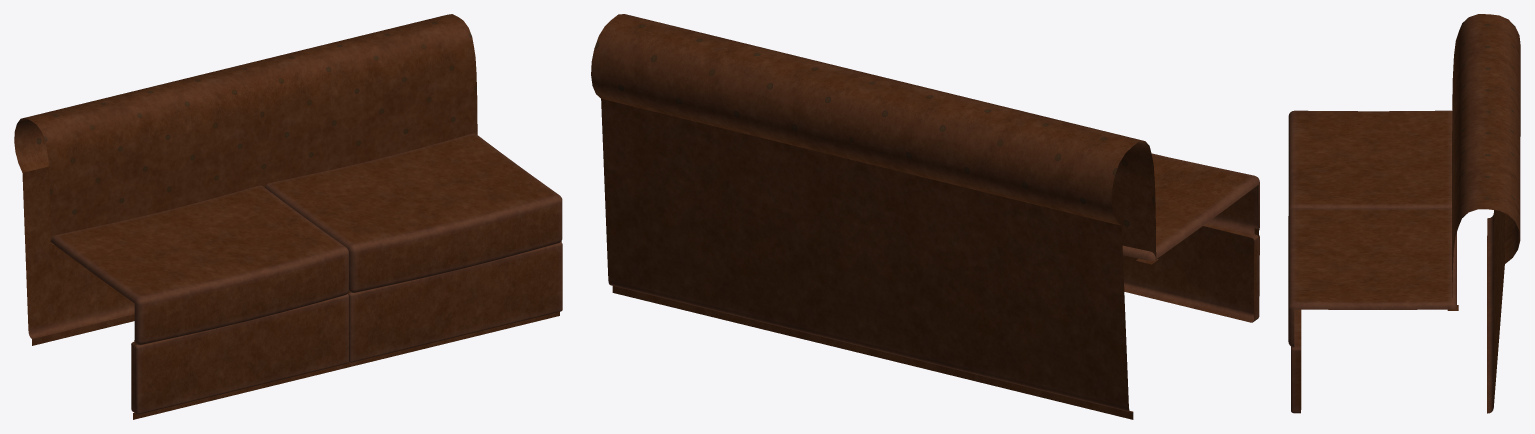
The model's file is SofaRetro01_4.FBX.
3 renders of one model, left to right at view 1: azimuth 30°, elevation 25°; view 2: azimuth 150°, elevation 25°; view 3: azimuth 270°, elevation 25°, orthographic. The views are drawn at different scales.
Visible parts, largest first — view 1: SofaRetro01_4; view 2: SofaRetro01_4; view 3: SofaRetro01_4.
Boxes of the visible parts, left/top/right/bottom form: SofaRetro01_4: left=14, top=14, right=562, bottom=419; SofaRetro01_4: left=591, top=14, right=1259, bottom=419; SofaRetro01_4: left=1288, top=14, right=1520, bottom=413.
Bounding box in the file's own units: 2003 × 1007 × 1005.
